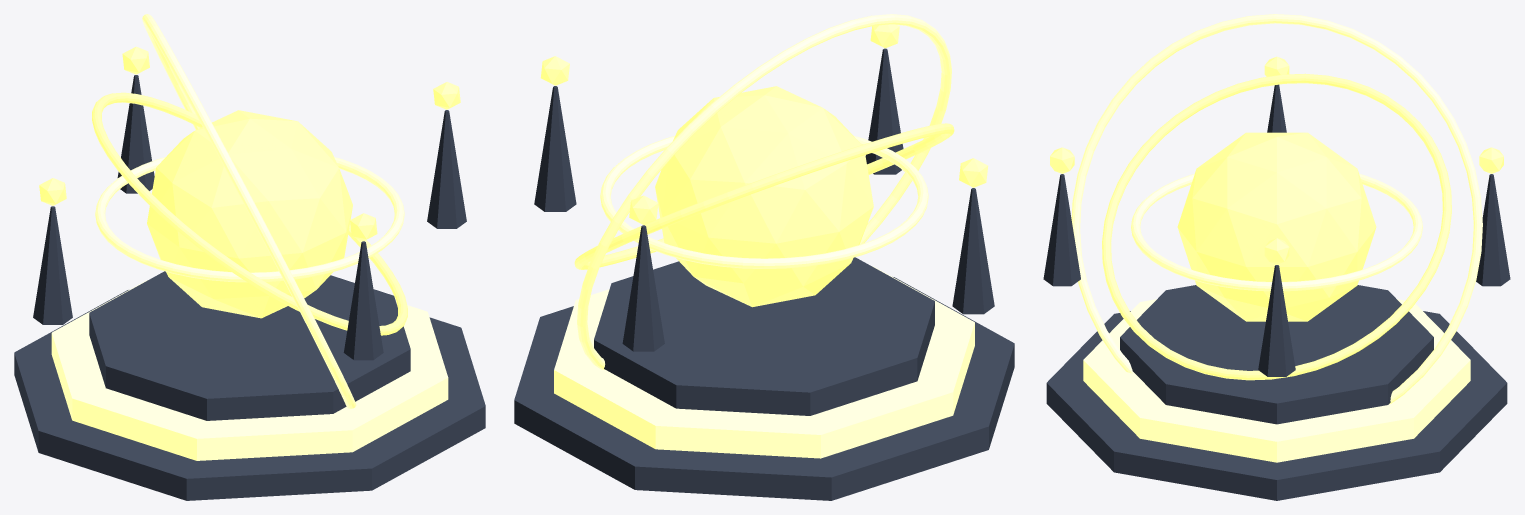
File: gpu-blender-v34.glb
3 views of the same model, side by side, from view 1: azimuth 30°, elevation 25°; view 2: azimuth 150°, elevation 25°; view 3: azimuth 270°, elevation 25° (orthographic). The views are drawn at different scales.
Visible parts, largest first — view 1: Cylinder.002, SovereignCore_agent-egress-sentinel, Cylinder, Cylinder.001, Torus.001, Torus.002, Torus, Cone.003, Cone, Cone.002, Cone.001, Icosphere.002 (+3 smaller); view 2: Cylinder.002, SovereignCore_agent-egress-sentinel, Cylinder, Cylinder.001, Torus.002, Torus, Torus.001, Cone.002, Cone.001, Cone, Cone.003, Icosphere (+3 smaller); view 3: SovereignCore_agent-egress-sentinel, Cylinder.002, Cylinder, Cylinder.001, Torus.001, Torus.002, Torus, Cone.003, Cone, Cone.001, Cone.002, Icosphere (+2 smaller).
Part boxes in pixels (left/top/right/bottom): Cylinder.002: left=89, top=271, right=410, bottom=420; SovereignCore_agent-egress-sentinel: left=147, top=110, right=352, bottom=318; Cylinder: left=14, top=290, right=485, bottom=500; Cylinder.001: left=51, top=280, right=448, bottom=460; Torus.001: left=92, top=92, right=407, bottom=335; Torus.002: left=142, top=14, right=356, bottom=408; Torus: left=95, top=157, right=404, bottom=282; Cone.003: left=343, top=241, right=383, bottom=360; Cone: left=427, top=110, right=466, bottom=228; Cone.002: left=33, top=206, right=72, bottom=324; Cone.001: left=117, top=75, right=154, bottom=193; Icosphere.002: left=39, top=178, right=66, bottom=205; Cylinder.002: left=594, top=257, right=934, bottom=415; SovereignCore_agent-egress-sentinel: left=655, top=86, right=873, bottom=307; Cylinder: left=514, top=277, right=1014, bottom=500; Cylinder.001: left=554, top=266, right=974, bottom=458; Torus.002: left=577, top=14, right=951, bottom=369; Torus: left=600, top=136, right=928, bottom=268; Torus.001: left=574, top=123, right=954, bottom=269; Cone.002: left=952, top=188, right=994, bottom=314; Cone.001: left=622, top=225, right=664, bottom=351; Cone: left=534, top=86, right=576, bottom=211; Cone.003: left=865, top=48, right=903, bottom=174; Icosphere: left=540, top=56, right=569, bottom=85; SovereignCore_agent-egress-sentinel: left=1177, top=132, right=1376, bottom=321; Cylinder.002: left=1120, top=285, right=1433, bottom=424; Cylinder: left=1046, top=311, right=1507, bottom=500; Cylinder.001: left=1083, top=299, right=1470, bottom=462; Torus.001: left=1102, top=73, right=1451, bottom=380; Torus.002: left=1071, top=14, right=1482, bottom=403; Torus: left=1131, top=174, right=1422, bottom=291; Cone.003: left=1043, top=174, right=1080, bottom=286; Cone: left=1258, top=265, right=1295, bottom=376; Cone.001: left=1476, top=174, right=1510, bottom=286; Cone.002: left=1267, top=84, right=1286, bottom=132; Icosphere: left=1264, top=238, right=1289, bottom=264.
Size of the model in its own units: 4.41 by 3.72 by 4.46.
